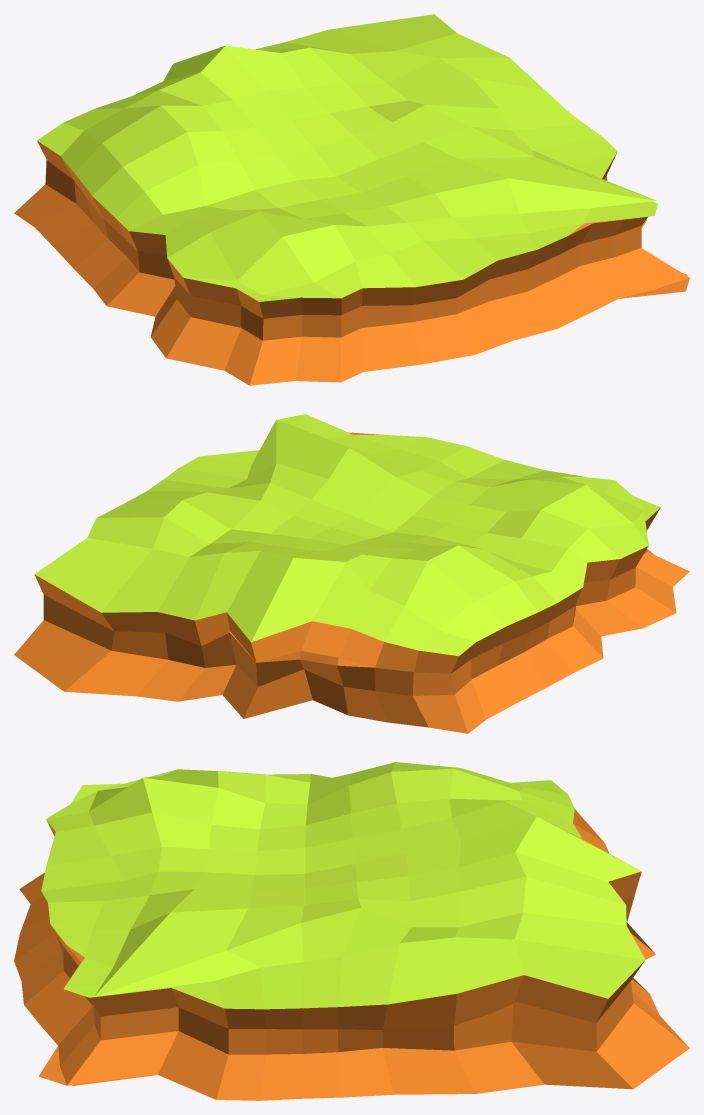
The model's file is terrainbig1.fbx.
3 renders of one model, top to bottom at view 1: azimuth 30°, elevation 25°; view 2: azimuth 150°, elevation 25°; view 3: azimuth 270°, elevation 25°, orthographic. The views are drawn at different scales.
Visible parts, largest first — view 1: Plane.002; view 2: Plane.002; view 3: Plane.002.
Boxes of the visible parts, x1,y1,x2,y2 form: Plane.002: (14,14,689,385); Plane.002: (14,414,689,733); Plane.002: (14,762,689,1100).
Size of the model in its own units: 1550 by 421 by 1669.
